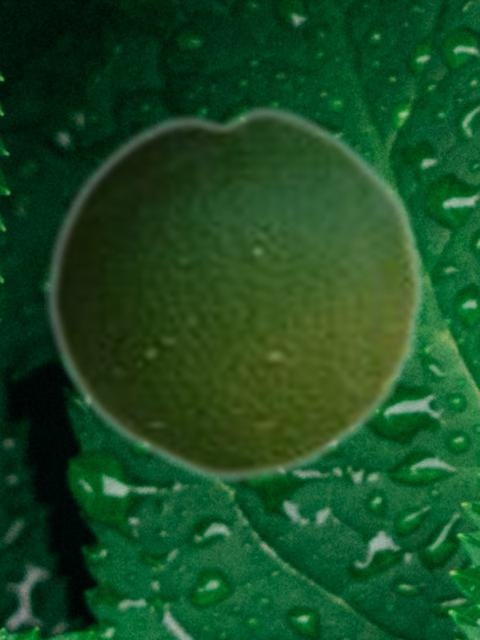dalandan: (44, 100, 426, 486)
